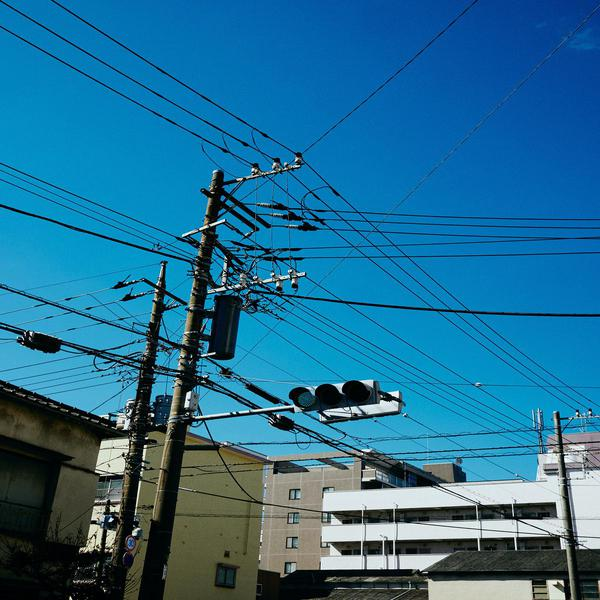utility_pole: (176, 147, 311, 353), (109, 251, 184, 350), (531, 399, 600, 484)
